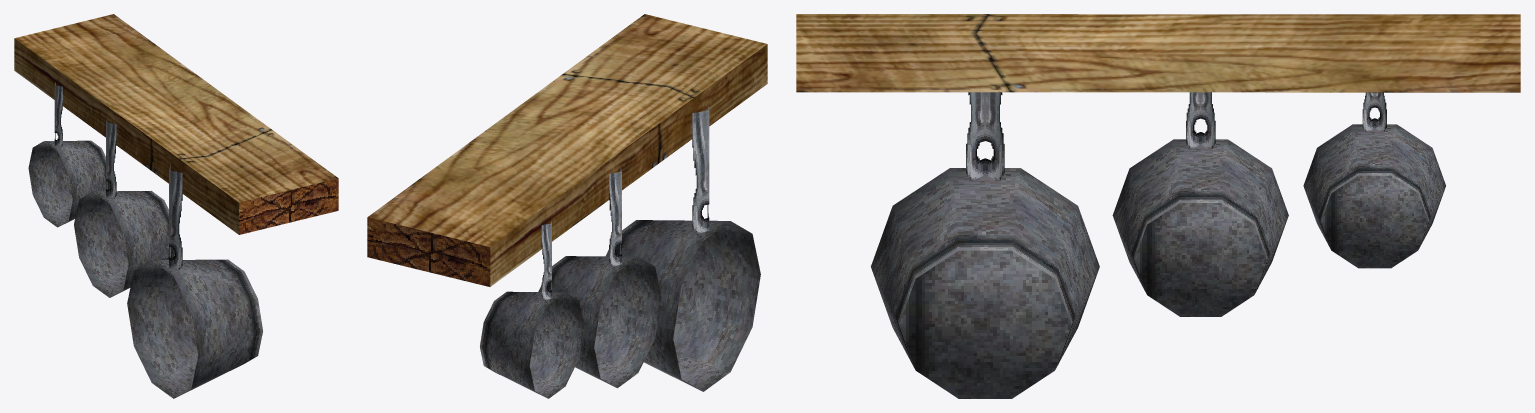
File: INST_LT_PANS.obj
3 renders of one model, left to right at view 1: azimuth 30°, elevation 25°; view 2: azimuth 150°, elevation 25°; view 3: azimuth 270°, elevation 25°, orthographic. The views are drawn at different scales.
Parts seen in each view (by area): view 1: M_window_base02, GM_Inst_pots_; view 2: M_window_base02, GM_Inst_pots_; view 3: GM_Inst_pots_, M_window_base02.
Part boxes in pixels (bbox=[...]): M_window_base02: bbox=[14, 14, 338, 234]; GM_Inst_pots_: bbox=[28, 82, 262, 398]; M_window_base02: bbox=[367, 14, 767, 286]; GM_Inst_pots_: bbox=[480, 103, 760, 398]; GM_Inst_pots_: bbox=[871, 92, 1445, 398]; M_window_base02: bbox=[796, 14, 1520, 92].
Bounding box in the file's own units: 27.07 × 50.03 × 89.84.
